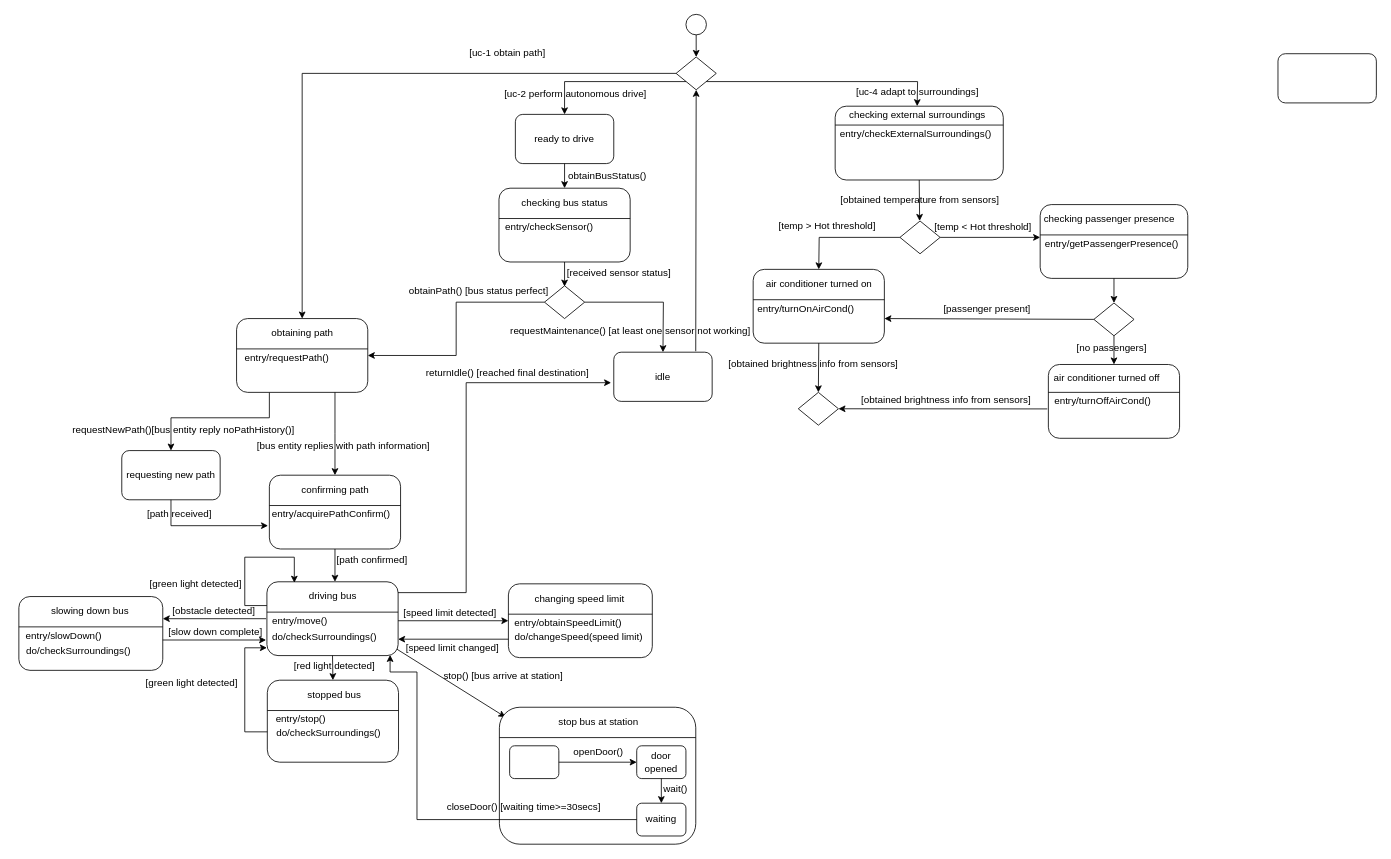
Some shapes in this 1391 by 859 pixel diagram are drawn without their labels. Here are the shapes that lost their labels. From the top down, the centre of each, then its label:
At [1326,78]: "under maintenance".
At [534,762]: "stopped".
